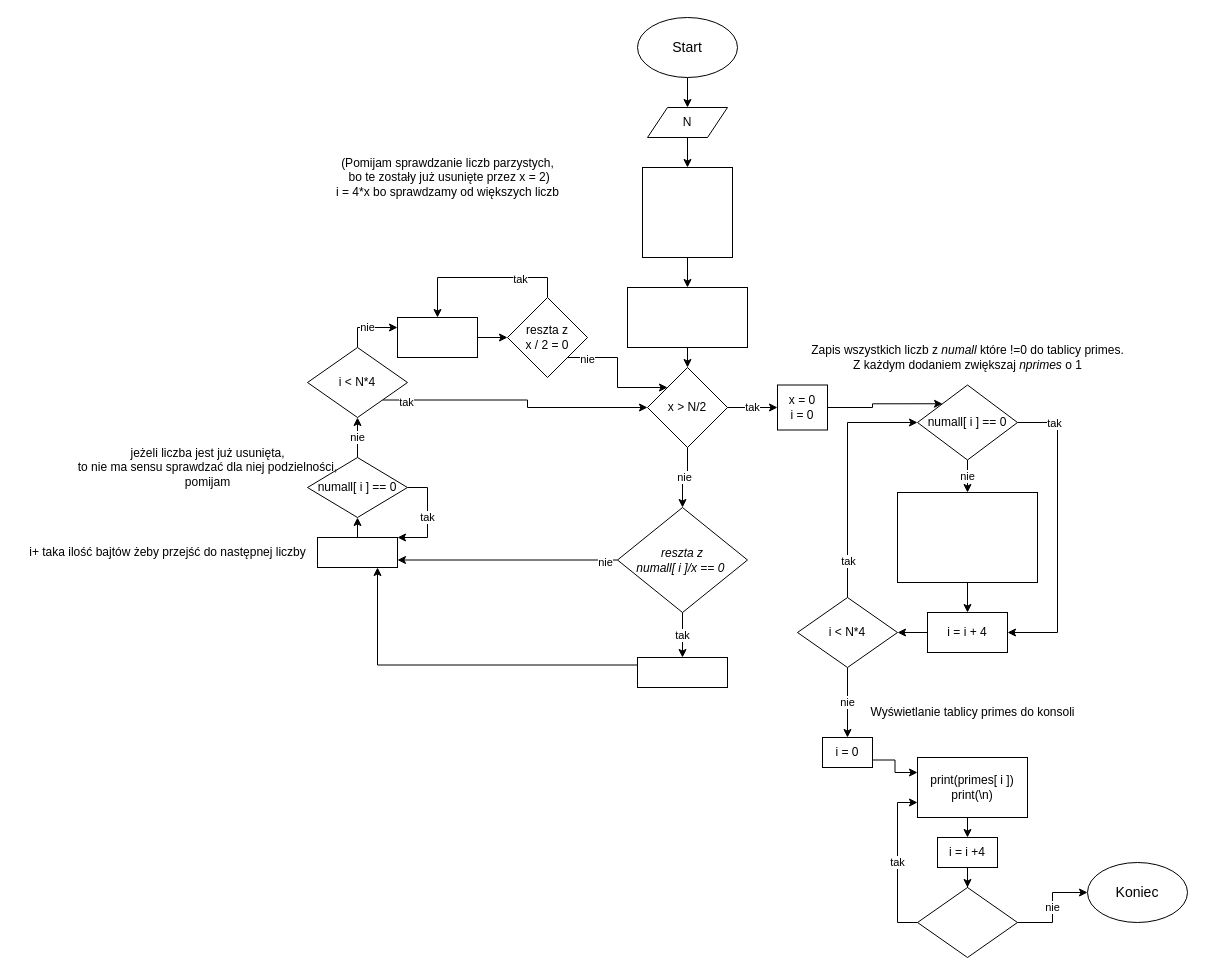
The diagram is 1205 pixels wide and 975 high, and some of its shapes have lost their labels. Here are the shapes that lost their labels. From the top down, the centre of each, then its label:
the point at 687,212: numall = { } primes = { } nprimes = 0 x = 2 i = 0
the point at 437,337: i = 4*x x = x+1
the point at 687,317: Wypełnij tablicę numall liczbami całkowitymi od 2 do N
the point at 357,552: i = i+4
the point at 967,537: nprimes = nprimes + 1 primes[ x ] = numall[ i ] x = x +4
the point at 682,672: numall[ i ] = 0
the point at 967,922: i < nprimes*4
